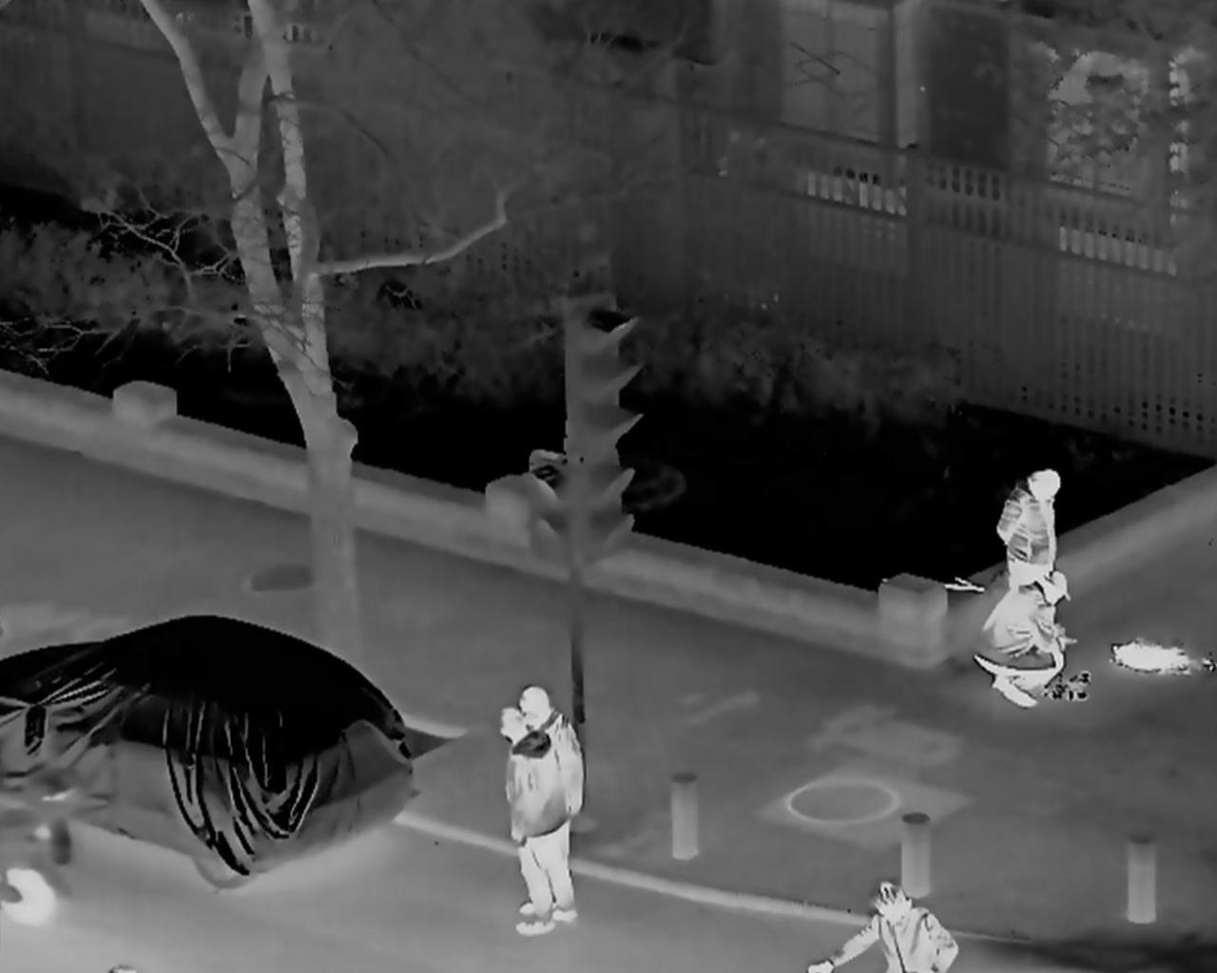person: (513, 684, 584, 926), (495, 707, 562, 933), (995, 466, 1072, 654), (805, 882, 956, 973), (976, 568, 1072, 711)
